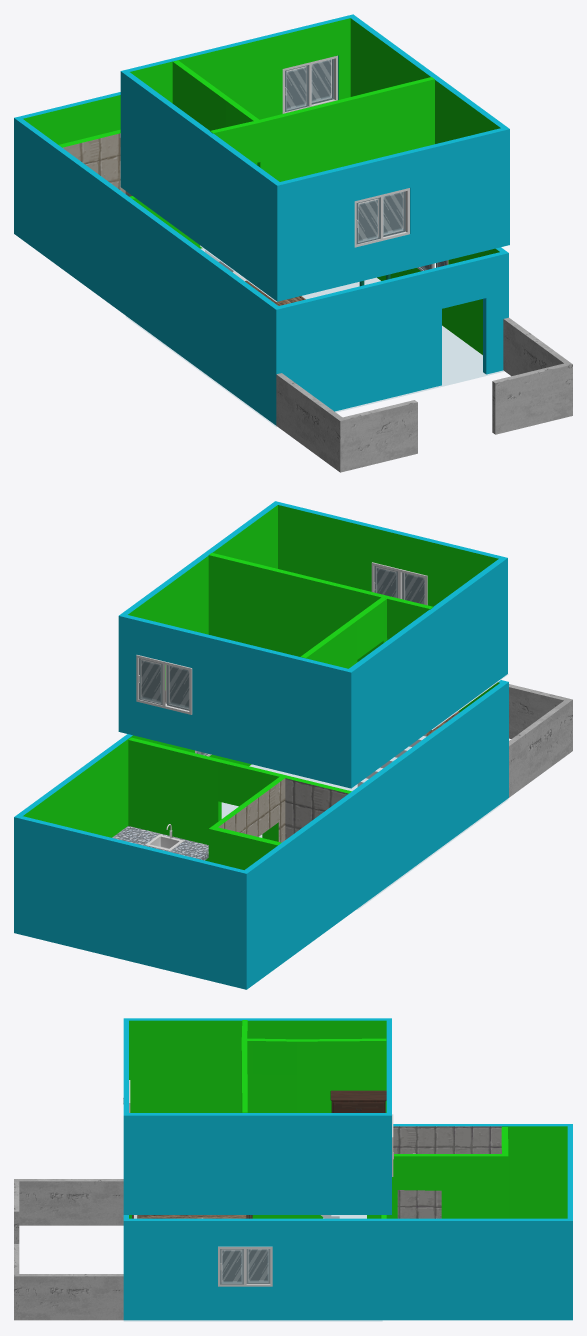
Rendered from MainHouse.fbx.
3 renders of one model, top to bottom at view 1: azimuth 30°, elevation 25°; view 2: azimuth 150°, elevation 25°; view 3: azimuth 270°, elevation 25°, orthographic. The views are drawn at different scales.
Visible parts, largest first — view 1: Second Floor Walls, First Floor Walls, Plane, Plane.001, Plane.007, First Flooring, Restroom Walls, Frame_2.001, Frame_2.003, Frame_1.001, Frame_1.003, Window.001 (+1 smaller); view 2: First Floor Walls, Second Floor Walls, Plane.001, Plane.004, Plane, Restroom Walls, Plane.007, Sink_Body, Frame_1.003, Frame_2.003, Window.003, First Flooring (+2 smaller); view 3: First Floor Walls, Second Floor Walls, Plane, Plane.007, Restroom Walls, Frame_2, Frame_1, Cabinet, Plane.001, Window, Cube.002, First Flooring (+1 smaller).
Part boxes in pixels (x1,y1,x2,y2): Second Floor Walls: [120, 14, 509, 301]; First Floor Walls: [14, 92, 508, 425]; Plane: [276, 317, 572, 472]; Plane.001: [210, 77, 434, 181]; Plane.007: [172, 60, 259, 164]; First Flooring: [125, 277, 504, 427]; Restroom Walls: [59, 129, 132, 196]; Frame_2.001: [356, 197, 380, 244]; Frame_2.003: [285, 65, 308, 111]; Frame_1.001: [383, 191, 405, 236]; Frame_1.003: [311, 59, 333, 104]; Window.001: [354, 188, 409, 247]; First Floor Walls: [14, 680, 508, 989]; Second Floor Walls: [118, 501, 507, 788]; Plane.001: [208, 553, 433, 661]; Plane.004: [128, 737, 351, 861]; Plane: [509, 684, 572, 797]; Restroom Walls: [208, 777, 285, 869]; Plane.007: [300, 597, 387, 668]; Sink_Body: [112, 826, 208, 860]; Frame_1.003: [138, 658, 162, 705]; Frame_2.003: [167, 665, 189, 710]; Window.003: [136, 655, 192, 714]; First Flooring: [221, 764, 508, 909]; First Floor Walls: [123, 1124, 572, 1320]; Second Floor Walls: [123, 1018, 391, 1214]; Plane: [14, 1179, 123, 1320]; Plane.007: [247, 1038, 386, 1112]; Restroom Walls: [386, 1127, 508, 1218]; Frame_2: [246, 1249, 270, 1283]; Frame_1: [220, 1249, 243, 1284]; Cabinet: [330, 1090, 386, 1112]; Plane.001: [241, 1020, 247, 1112]; Window: [218, 1246, 272, 1286]; Cube.002: [333, 1102, 383, 1112]; First Flooring: [123, 1320, 382, 1321].
Size of the model in its own units: 2111 by 2085 by 5100.
30 materials, 19 textured.
